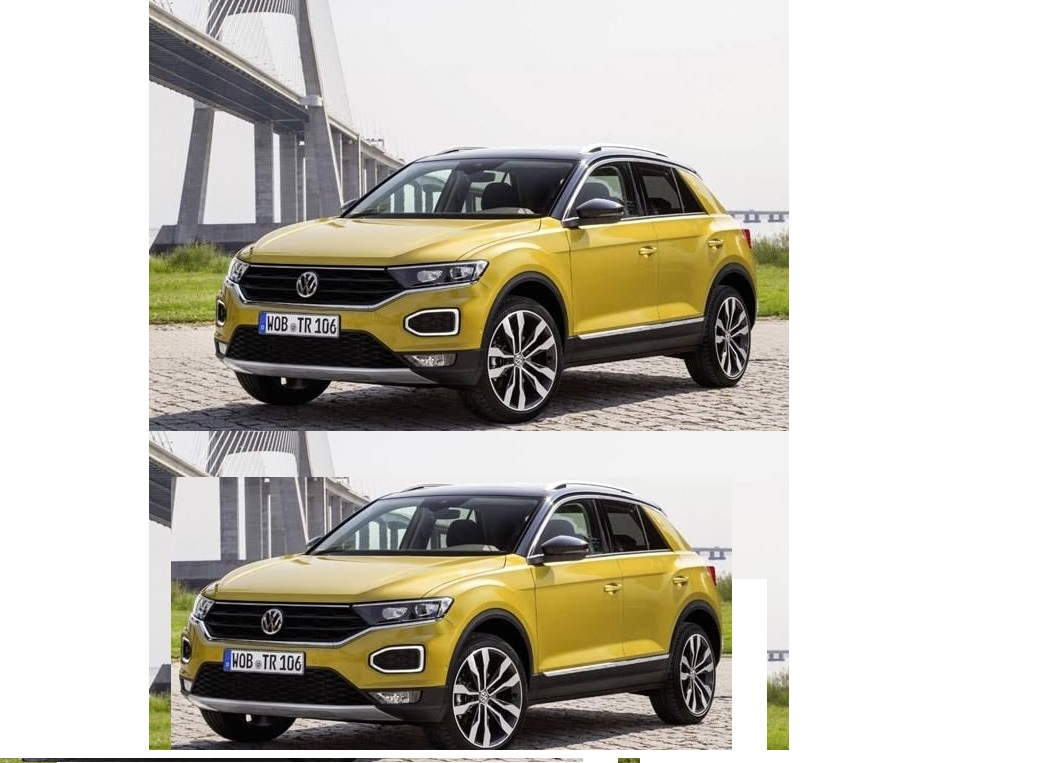car: (211, 141, 762, 418), (177, 475, 724, 748)
